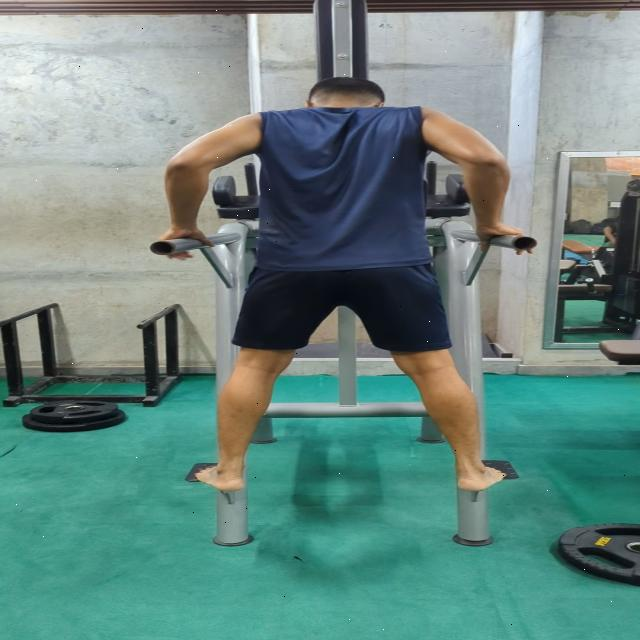Normal_Dips: (128, 75, 548, 497)
